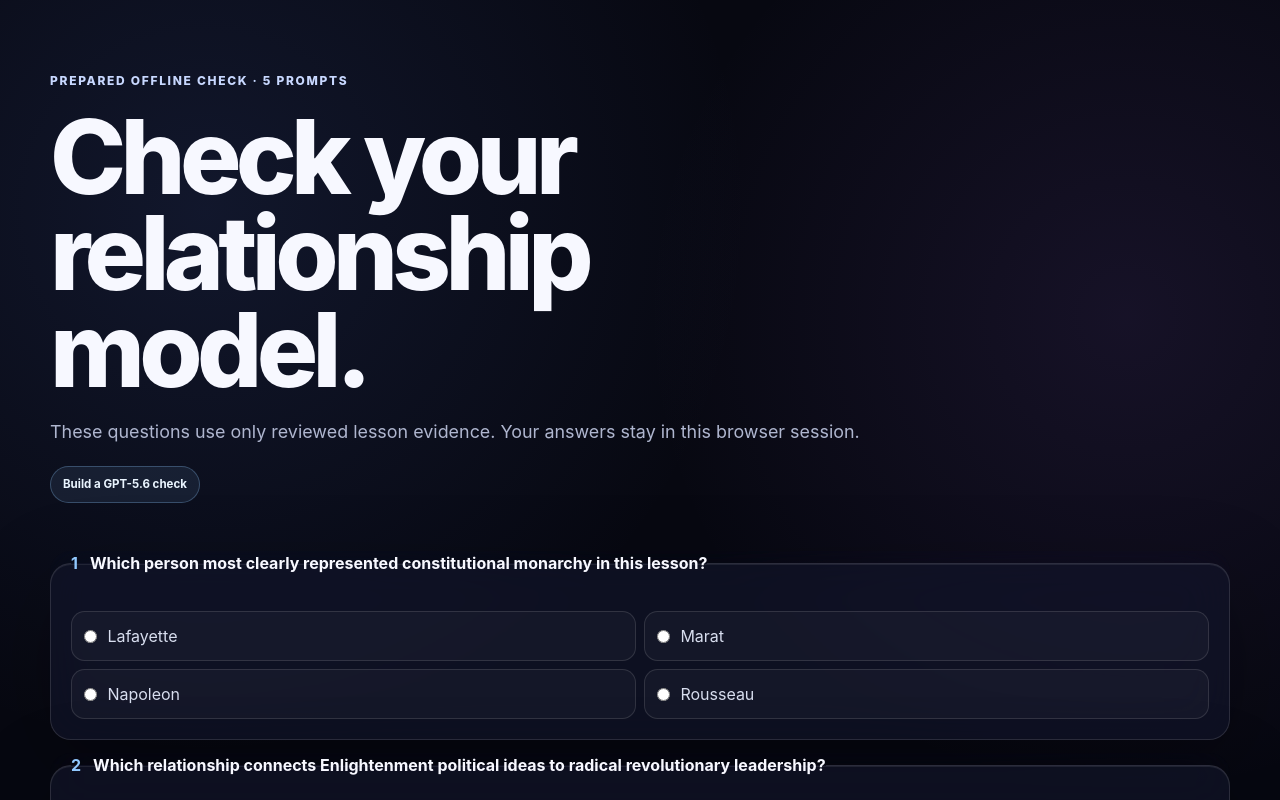
Test: optional GPT-5.6 learning enhancements › can replace the prepared assessment with a validated generated check
What coordinates should you click on to do the following:
click the button "Build a GPT-5.6 check"
I would click on:
 (125, 485)
Its box is [50, 466, 200, 503].
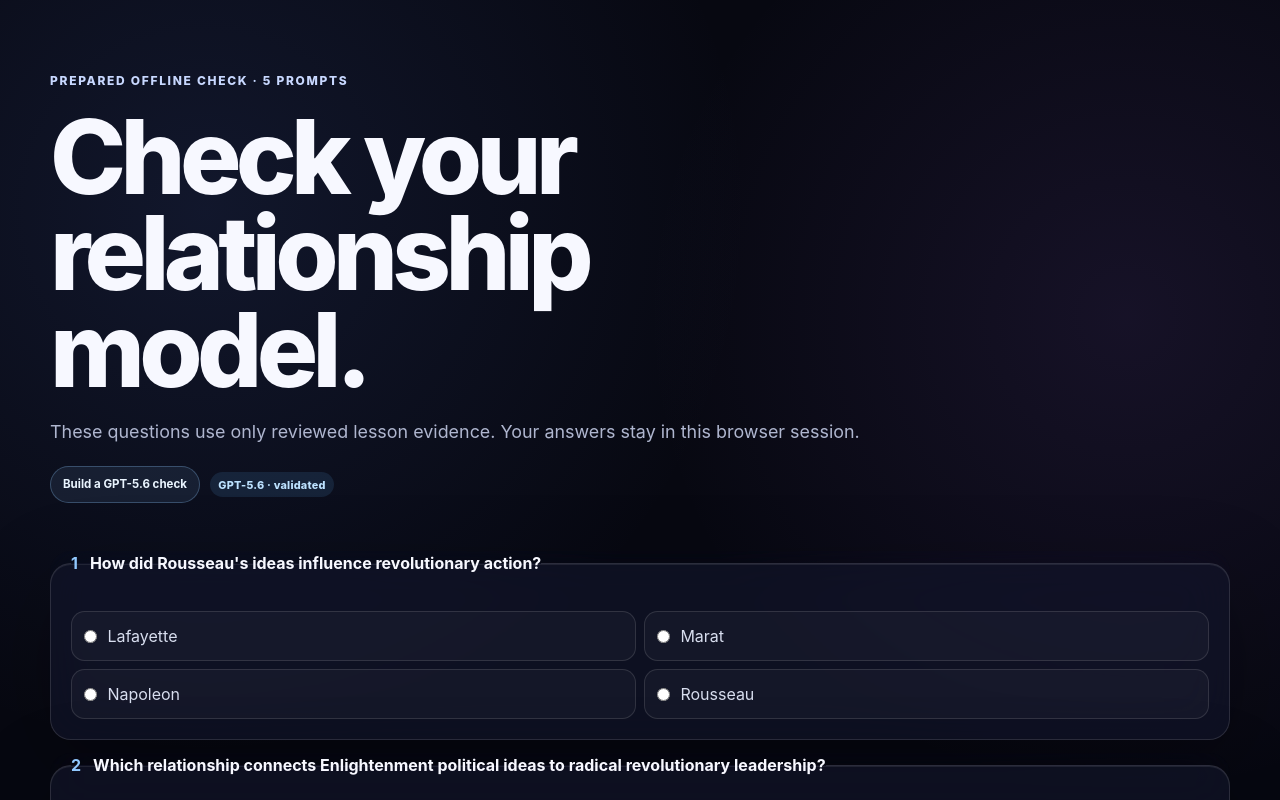
Check: the text "1 How did Rousseau's ideas influence revolutionary action?" is shown, box [71, 551, 541, 575]
Check: the text "GPT-5.6 · validated" is shown, box [210, 472, 334, 498]
